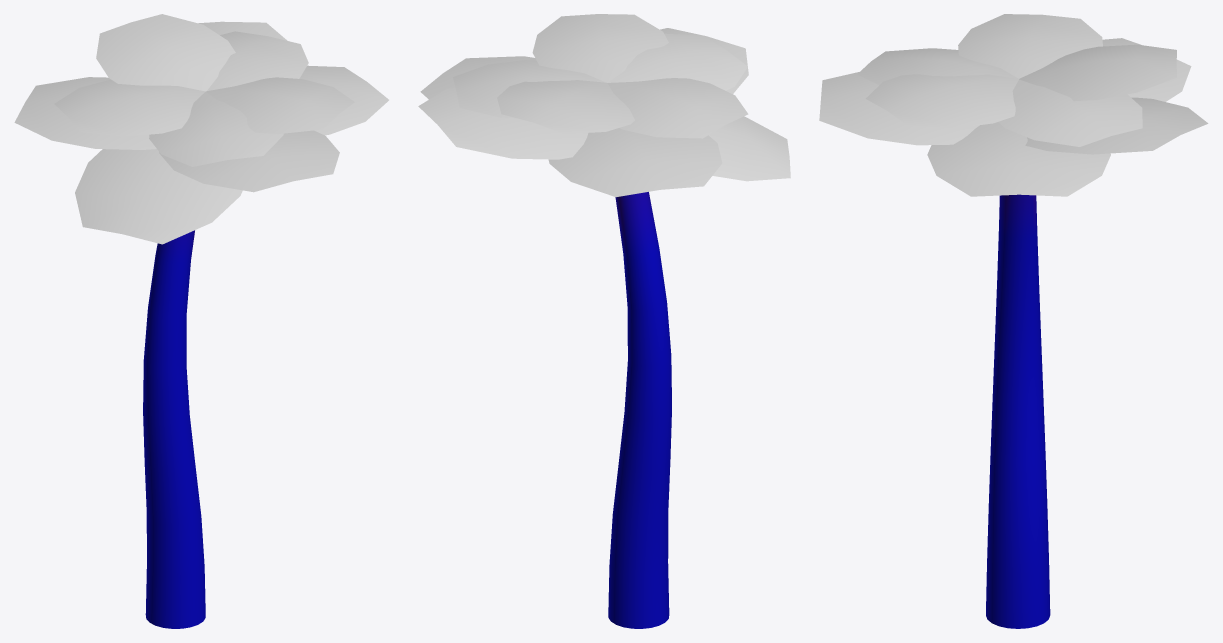
File: Palm_Test_03.fbx
The picture shows the model from 3 angles, left to right: view 1: azimuth 30°, elevation 25°; view 2: azimuth 150°, elevation 25°; view 3: azimuth 270°, elevation 25°; orthographic projection. The views are drawn at different scales.
Visible parts, largest first — view 1: Leaves, Palm; view 2: Leaves, Palm; view 3: Leaves, Palm.
Part boxes in pixels (x1=…): Leaves: x1=14, y1=14, x2=388, y2=244; Palm: x1=143, y1=230, x2=205, y2=628; Leaves: x1=418, y1=14, x2=790, y2=197; Palm: x1=608, y1=192, x2=671, y2=628; Leaves: x1=819, y1=14, x2=1208, y2=196; Palm: x1=986, y1=194, x2=1050, y2=628.
Bounding box in the file's own units: 2.33 × 3.81 × 2.35.
